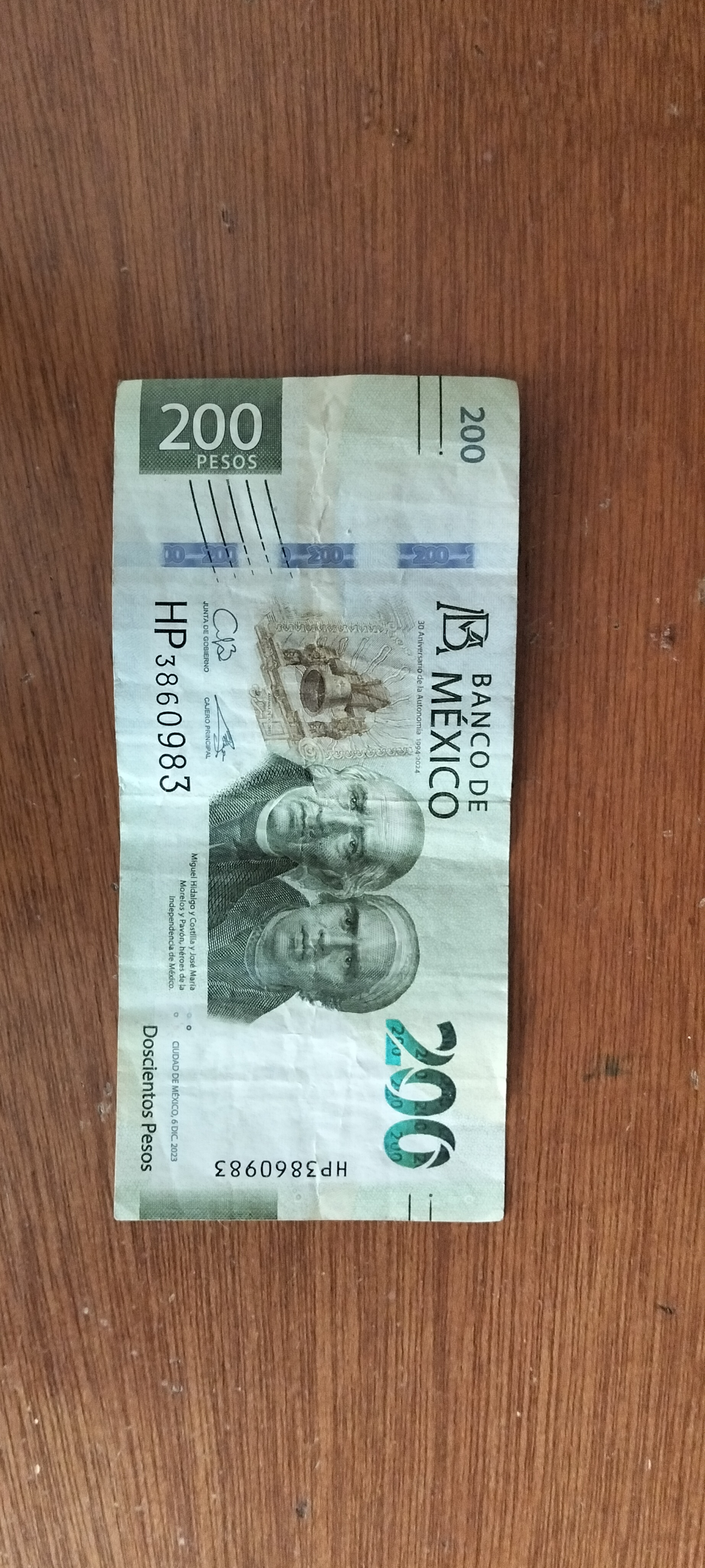billetes: (97, 357, 534, 1233)
